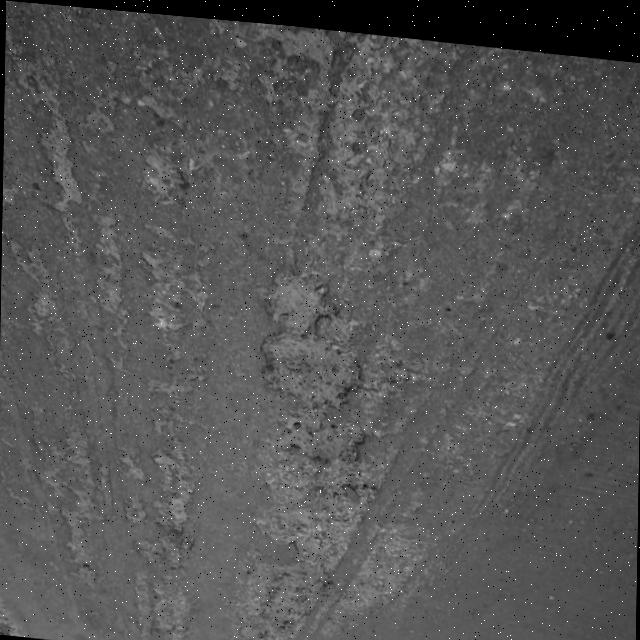Pothole: (254, 326, 367, 408), (258, 524, 338, 630), (269, 403, 370, 463), (34, 114, 88, 217), (262, 259, 335, 334), (270, 19, 337, 68), (138, 146, 185, 200)
